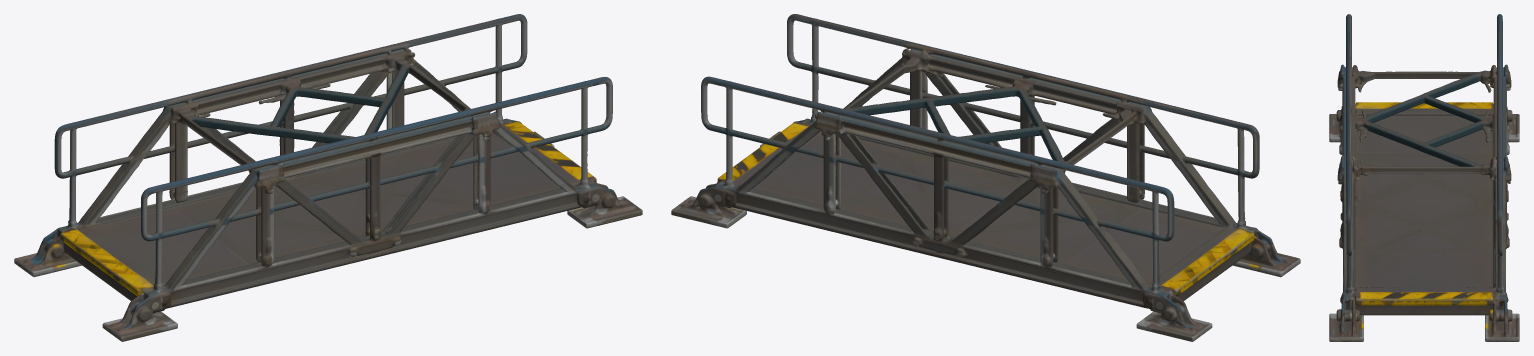
The model's file is short_maintenance_truss_bridge.glb.
3 renders of one model, left to right at view 1: azimuth 30°, elevation 25°; view 2: azimuth 150°, elevation 25°; view 3: azimuth 270°, elevation 25°, orthographic. The views are drawn at different scales.
Visible parts, largest first — view 1: tripo_node_743a9706-698e-4181-be09-5e643d5fc596; view 2: tripo_node_743a9706-698e-4181-be09-5e643d5fc596; view 3: tripo_node_743a9706-698e-4181-be09-5e643d5fc596.
Boxes of the visible parts, left/top/right/bottom form: tripo_node_743a9706-698e-4181-be09-5e643d5fc596: left=14, top=14, right=642, bottom=341; tripo_node_743a9706-698e-4181-be09-5e643d5fc596: left=671, top=14, right=1300, bottom=341; tripo_node_743a9706-698e-4181-be09-5e643d5fc596: left=1329, top=14, right=1519, bottom=341.
Bounding box in the file's own units: 1 × 0.2514 × 0.3591.
1 material, 1 textured.
